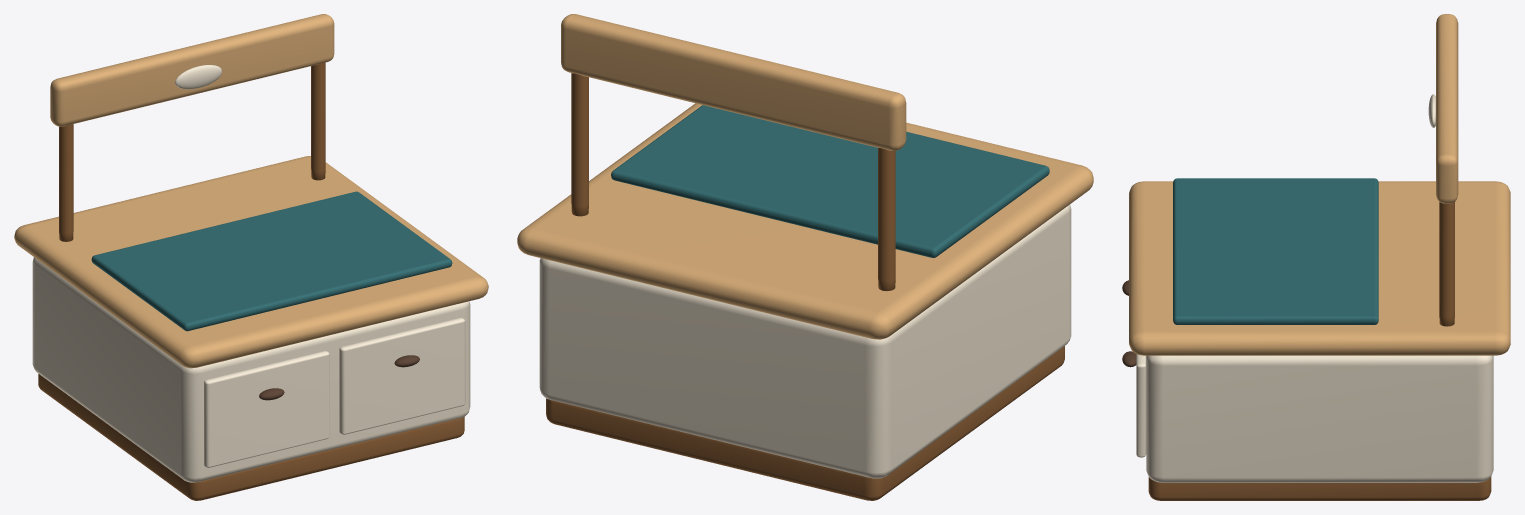
Rendered from station-serve.obj.
3 views of the same model, side by side, from view 1: azimuth 30°, elevation 25°; view 2: azimuth 150°, elevation 25°; view 3: azimuth 270°, elevation 25° (orthographic). The views are drawn at different scales.
Parts seen in each view (by area): view 1: station-serve_ivory, station-serve_oakLight, station-serve_teal, station-serve_oakDark; view 2: station-serve_ivory, station-serve_oakLight, station-serve_teal, station-serve_oakDark; view 3: station-serve_ivory, station-serve_oakLight, station-serve_teal, station-serve_oakDark.
Boxes of the visible parts, x1,y1,x2,y2 form: station-serve_ivory: [32, 65, 470, 482]; station-serve_oakLight: [14, 14, 488, 368]; station-serve_teal: [91, 191, 452, 331]; station-serve_oakDark: [38, 62, 464, 500]; station-serve_ivory: [539, 204, 1071, 478]; station-serve_oakLight: [517, 14, 1093, 339]; station-serve_teal: [611, 105, 1049, 257]; station-serve_oakDark: [546, 73, 1064, 500]; station-serve_ivory: [1136, 94, 1493, 482]; station-serve_oakLight: [1129, 14, 1510, 355]; station-serve_teal: [1173, 178, 1378, 324]; station-serve_oakDark: [1148, 202, 1491, 500].
Bounding box in the file's own units: 0.78 × 0.7841 × 0.794.
